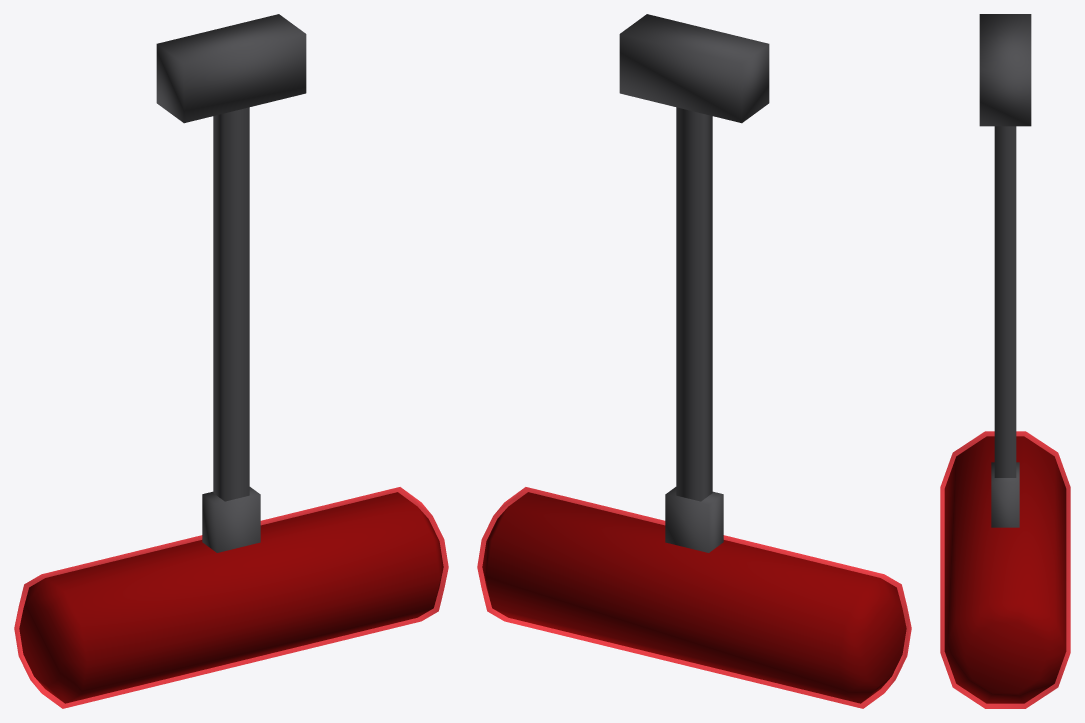
The model's file is swingBeam.glb.
3 renders of one model, left to right at view 1: azimuth 30°, elevation 25°; view 2: azimuth 150°, elevation 25°; view 3: azimuth 270°, elevation 25°, orthographic. The views are drawn at different scales.
Visible parts, largest first — view 1: SwingBeam, SwingBeamOutline; view 2: SwingBeam, SwingBeamOutline; view 3: SwingBeam, SwingBeamOutline.
Part boxes in pixels (x1,y1,x2,y2): SwingBeam: [19, 14, 443, 703]; SwingBeamOutline: [14, 487, 448, 708]; SwingBeam: [482, 14, 906, 703]; SwingBeamOutline: [477, 487, 911, 708]; SwingBeam: [944, 14, 1066, 703]; SwingBeamOutline: [940, 431, 1070, 708].
Size of what is drawn, in the model's own units: 3.16 by 4.8 by 0.9725.
Materials: 3 (3 with a texture image).
